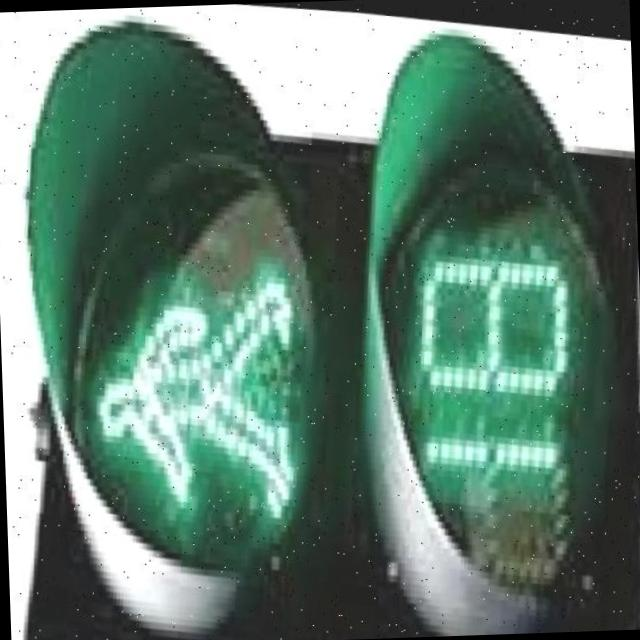green_light: (77, 184, 593, 550)
